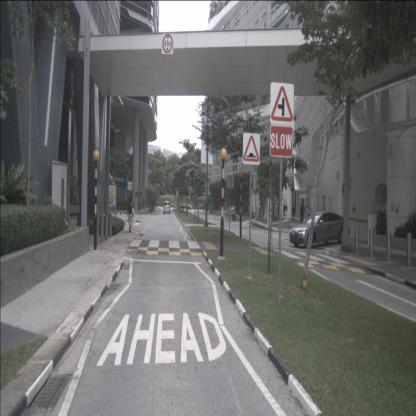human-pedestrian-adult: (127, 197, 134, 232), (299, 203, 304, 223), (307, 205, 311, 223), (292, 204, 295, 221), (285, 203, 288, 219), (283, 203, 285, 218), (203, 203, 205, 212), (207, 203, 208, 213), (205, 203, 206, 213)
vehicle-car: (289, 210, 350, 248), (163, 201, 171, 214), (181, 203, 192, 210)
vehicle-motorcycle: (231, 207, 236, 221)
